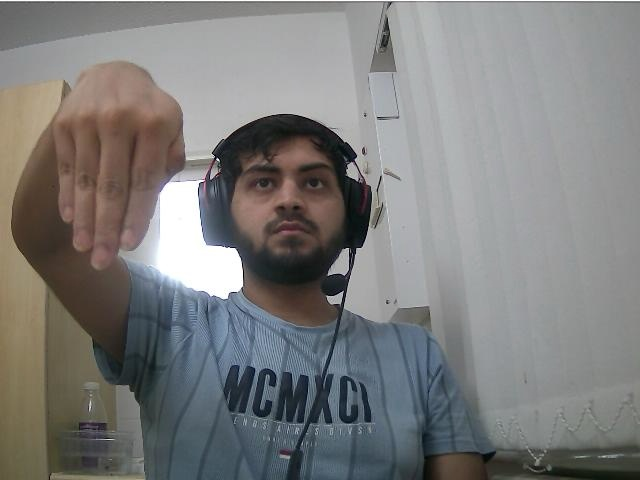down: (56, 60, 177, 270)
